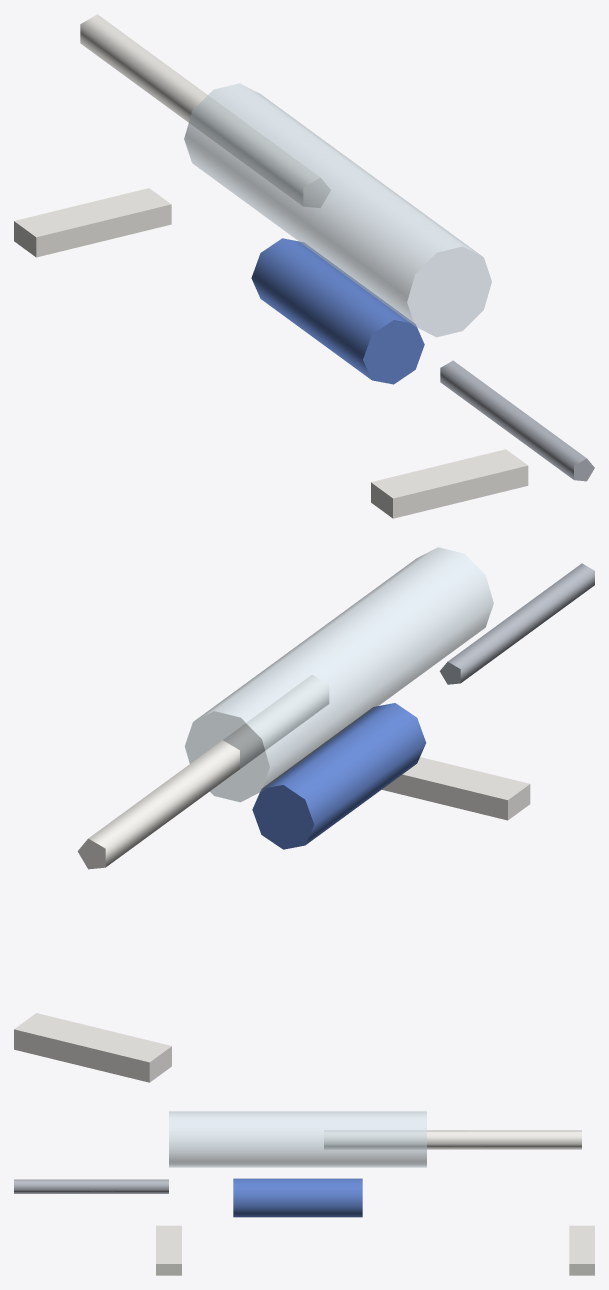
Rendered from syringe.glb.
3 renders of one model, top to bottom at view 1: azimuth 30°, elevation 25°; view 2: azimuth 150°, elevation 25°; view 3: azimuth 270°, elevation 25°, orthographic. The views are drawn at different scales.
Visible parts, largest first — view 1: root; view 2: root; view 3: root.
Boxes of the visible parts, x1,y1,x2,y2 form: root: (14, 14, 594, 518); root: (14, 547, 594, 1082); root: (14, 1111, 594, 1275).
Bounding box in the file's own units: 0.07 × 0.1209 × 0.45.
